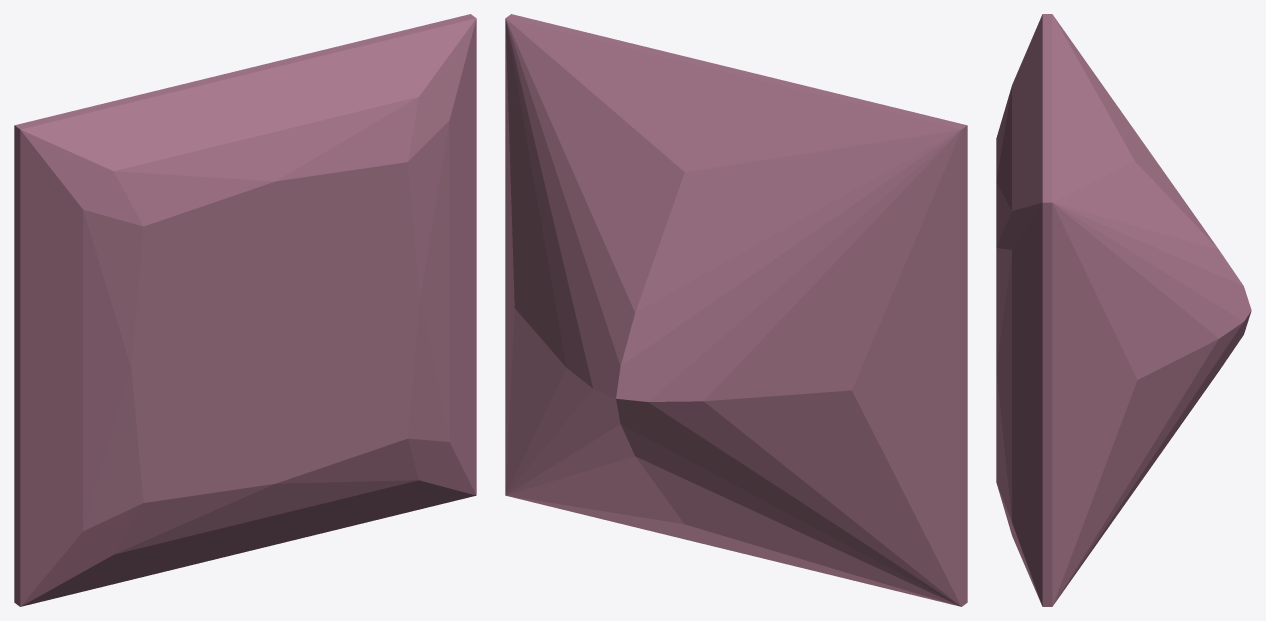
Rendered from myrna.glb.
The picture shows the model from 3 angles, left to right: view 1: azimuth 30°, elevation 25°; view 2: azimuth 150°, elevation 25°; view 3: azimuth 270°, elevation 25°; orthographic projection. The views are drawn at different scales.
Visible parts, largest first — view 1: Myrna; view 2: Myrna; view 3: Myrna.
Boxes of the visible parts, x1,y1,x2,y2 form: Myrna: [14, 14, 476, 606]; Myrna: [505, 14, 967, 606]; Myrna: [996, 14, 1251, 606].
Size of the model in its own units: 2 by 2 by 1.14.
